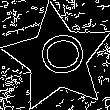O_W: (30, 33, 85, 83)
